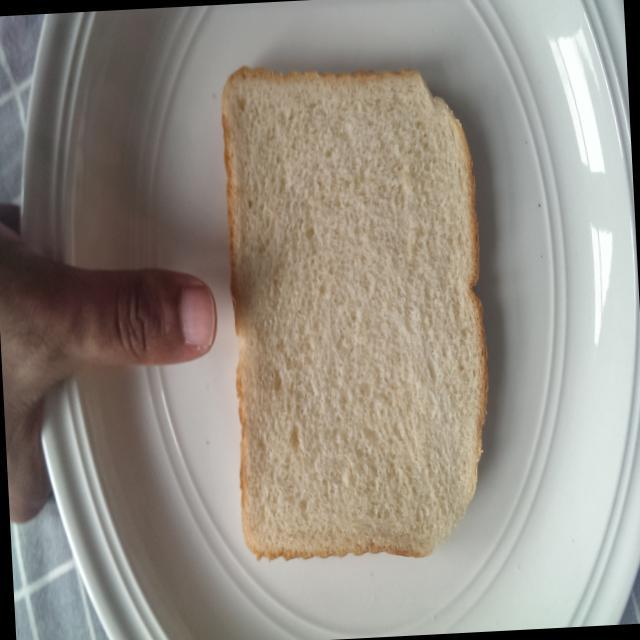Bread: (208, 49, 502, 576)
Finger: (105, 256, 225, 378)
